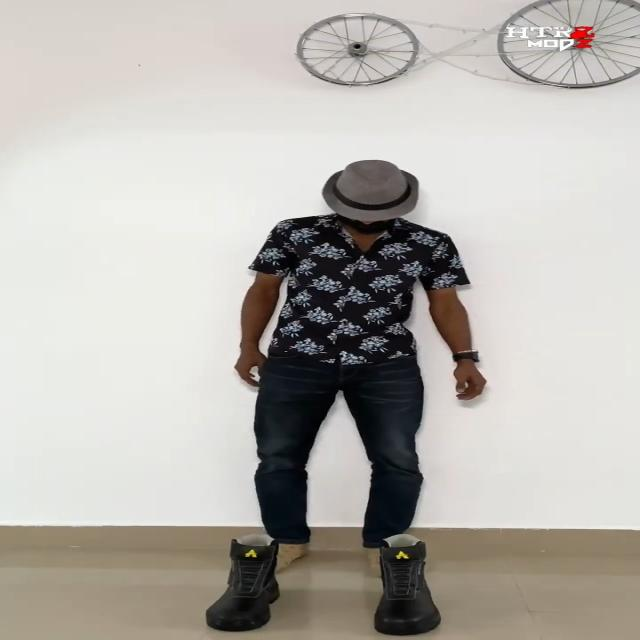Person: (220, 163, 492, 556)
